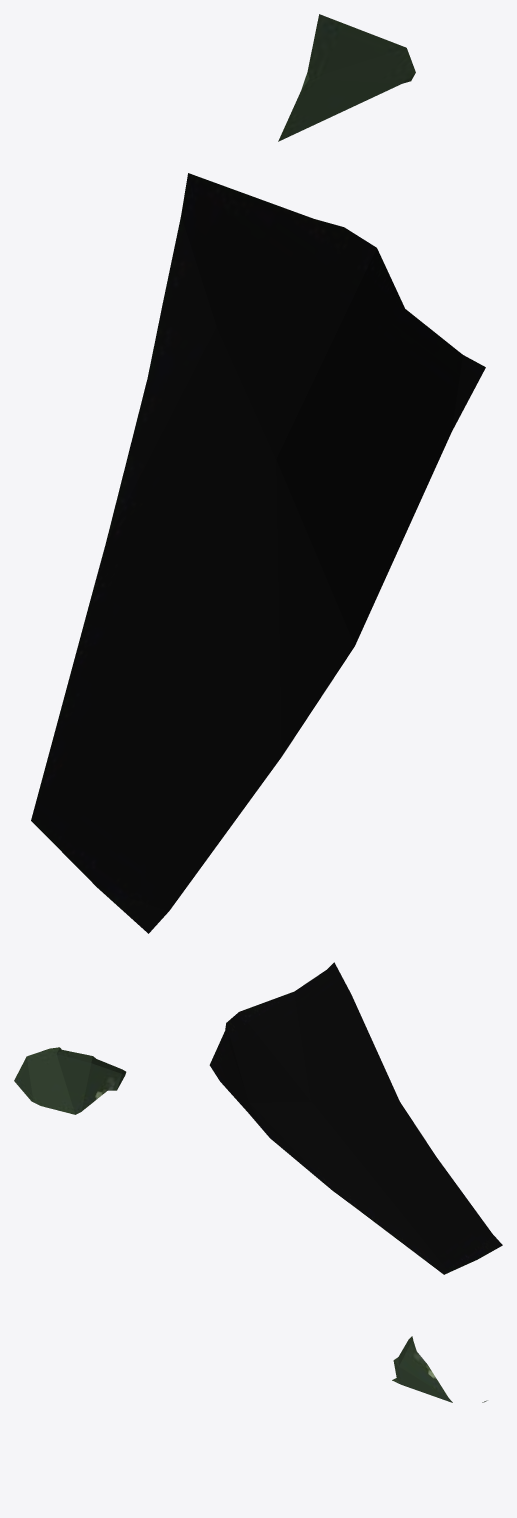
3 views of the same model, one above another, from view 1: azimuth 30°, elevation 25°; view 2: azimuth 150°, elevation 25°; view 3: azimuth 270°, elevation 25° (orthographic). The views are drawn at different scales.
Bounding box in the file's own units: 17.66 × 13.5 × 20.4.
1 material, 1 textured.
